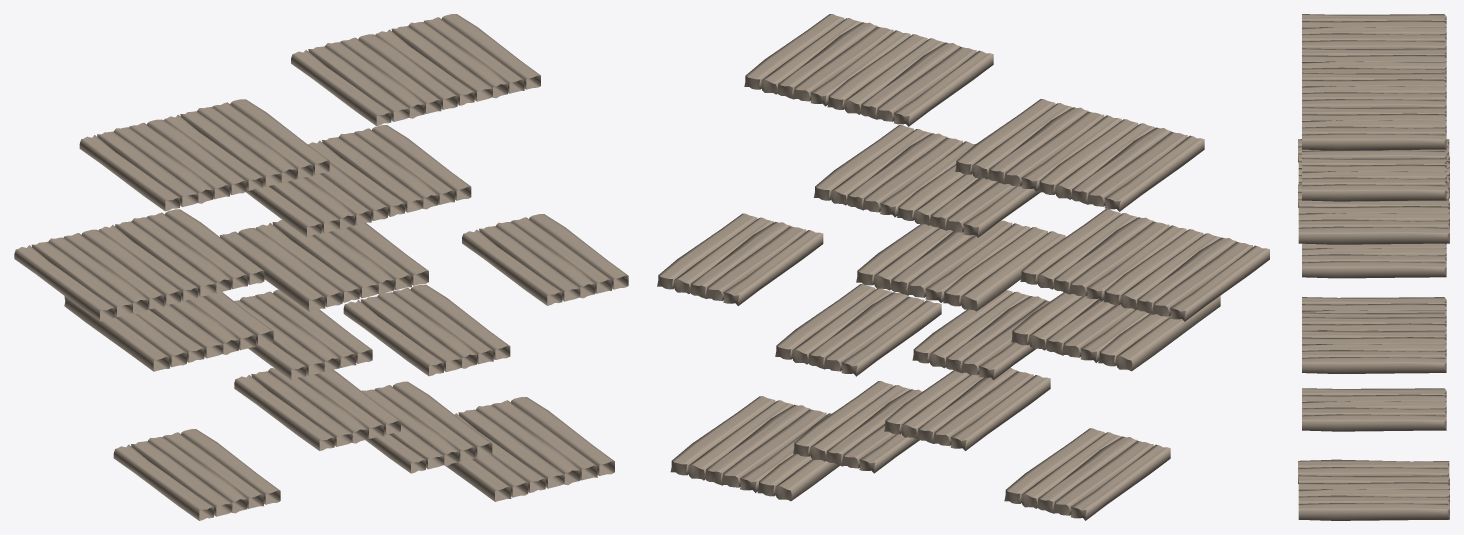
File: Plataformas de arbol.fbx
3 views of the same model, side by side, from view 1: azimuth 30°, elevation 25°; view 2: azimuth 150°, elevation 25°; view 3: azimuth 270°, elevation 25° (orthographic). The views are drawn at different scales.
Visible parts, largest first — view 1: Plataforma_12, Plataforma_10, Plataforma_13, Plataforma_11, Plataforma_9, Plataforma_1, Plataforma_8, Plataforma_4, Plataforma_6, Plataforma_7, Plataforma_3, Plataforma_5 (+1 smaller); view 2: Plataforma_12, Plataforma_13, Plataforma_10, Plataforma_11, Plataforma_9, Plataforma_1, Plataforma_8, Plataforma_7, Plataforma_4, Plataforma_6, Plataforma_3, Plataforma_5 (+1 smaller); view 3: Plataforma_13, Plataforma_1, Plataforma_12, Plataforma_11, Plataforma_9, Plataforma_2, Plataforma_7, Plataforma_5, Plataforma_4, Plataforma_6, Plataforma_3, Plataforma_8.
Part boxes in pixels (bbox=[...]): Plataforma_12: bbox=[79, 99, 329, 211]; Plataforma_10: bbox=[14, 209, 264, 321]; Plataforma_13: bbox=[291, 14, 540, 125]; Plataforma_11: bbox=[246, 125, 471, 237]; Plataforma_9: bbox=[219, 220, 428, 311]; Plataforma_1: bbox=[445, 397, 614, 501]; Plataforma_8: bbox=[64, 292, 273, 371]; Plataforma_4: bbox=[113, 429, 280, 520]; Plataforma_6: bbox=[343, 284, 510, 376]; Plataforma_7: bbox=[462, 214, 628, 305]; Plataforma_3: bbox=[234, 368, 400, 450]; Plataforma_5: bbox=[234, 289, 372, 379]; Plataforma_12: bbox=[955, 99, 1204, 211]; Plataforma_13: bbox=[744, 14, 993, 126]; Plataforma_10: bbox=[1020, 209, 1269, 321]; Plataforma_11: bbox=[814, 125, 1040, 237]; Plataforma_9: bbox=[856, 220, 1065, 311]; Plataforma_1: bbox=[670, 396, 839, 501]; Plataforma_8: bbox=[1011, 292, 1220, 371]; Plataforma_7: bbox=[657, 213, 823, 305]; Plataforma_4: bbox=[1004, 428, 1170, 520]; Plataforma_6: bbox=[775, 284, 941, 376]; Plataforma_3: bbox=[884, 367, 1050, 450]; Plataforma_5: bbox=[912, 290, 1049, 380]; Plataforma_13: bbox=[1302, 72, 1446, 150]; Plataforma_1: bbox=[1298, 459, 1449, 520]; Plataforma_12: bbox=[1302, 14, 1446, 74]; Plataforma_11: bbox=[1302, 149, 1446, 201]; Plataforma_9: bbox=[1298, 184, 1449, 244]; Plataforma_2: bbox=[1302, 388, 1446, 431]; Plataforma_7: bbox=[1302, 330, 1446, 373]; Plataforma_5: bbox=[1302, 243, 1446, 278]; Plataforma_4: bbox=[1302, 297, 1446, 314]; Plataforma_6: bbox=[1302, 317, 1446, 332]; Plataforma_3: bbox=[1302, 312, 1446, 318]; Plataforma_8: bbox=[1298, 139, 1449, 198].
Bounding box in the file's own units: 63.65 × 47.91 × 18.68.
